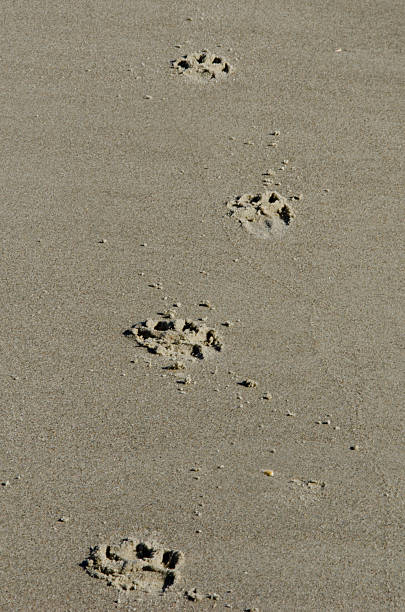animal_footprint: (82, 538, 183, 593), (124, 318, 222, 358), (226, 191, 294, 237), (172, 50, 231, 78)
